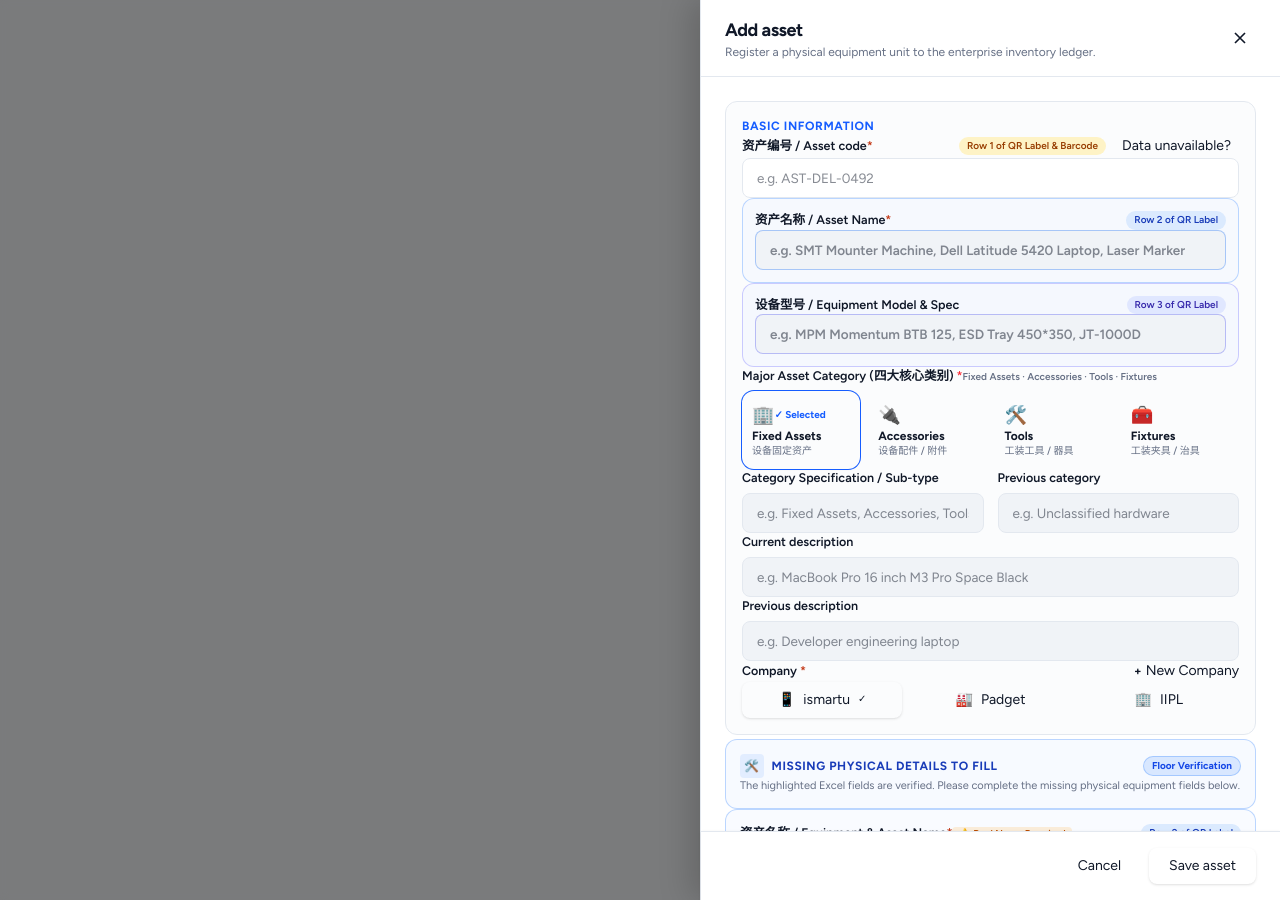
Scenario: Four Major Asset Categories Specification › 4. AddAssetPanel displays the 4 major category buttons and updates selection
Check: the button "🏢 ✓ Selected Fixed Assets 设备固定资产" is shown, box [742,391,860,469]
Check: the button "🔌 Accessories 设备配件 / 附件" is shown, box [868,391,987,469]
# Click 'Tools'
Click the button "🛠️ Tools 工装工具 / 器具" at {"x": 1054, "y": 430}, box [994,391,1113,469]
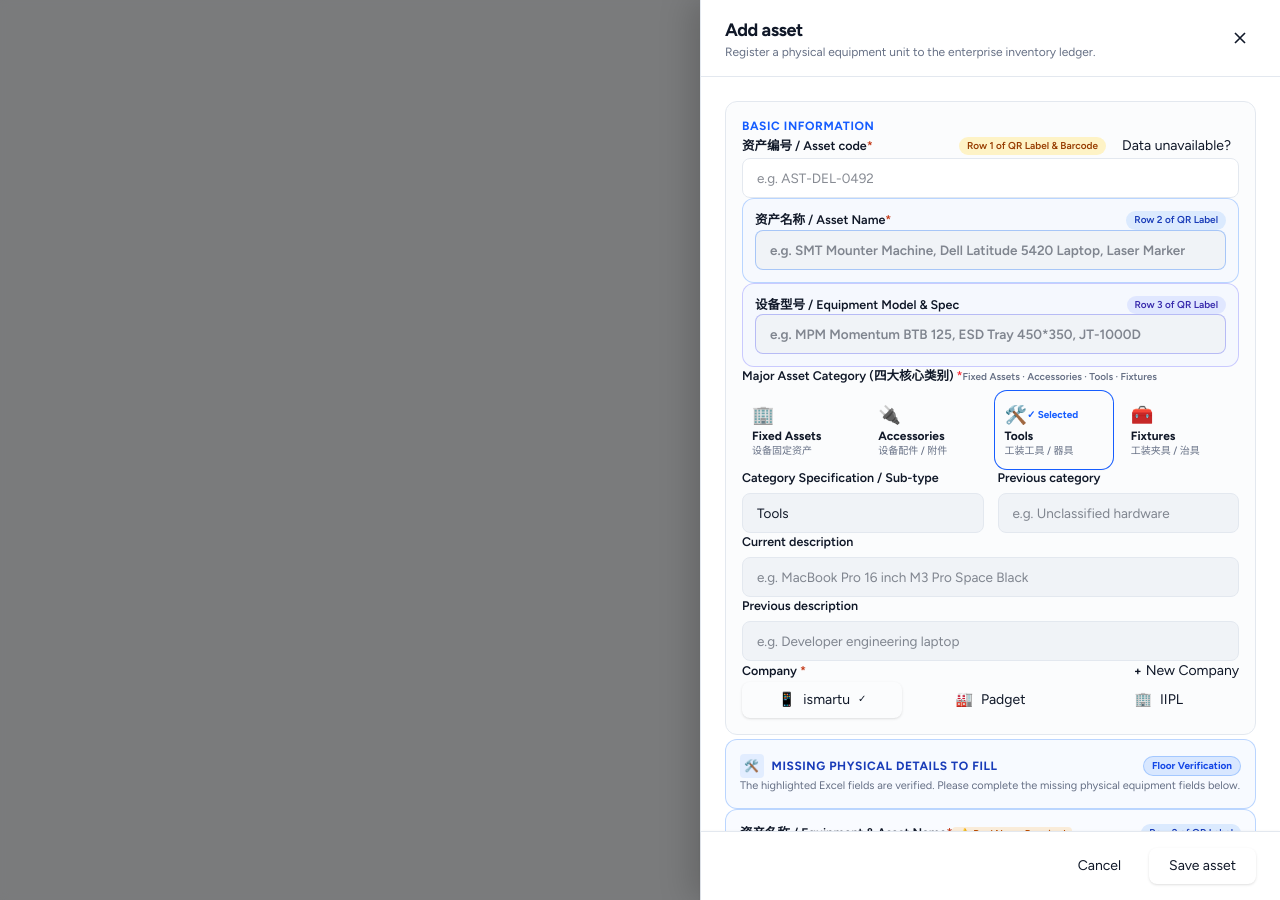
Check: the field with placeholder "e.g. Fixed Assets, Accessories, Tools, Fixtures" holds "Tools", box [742,493,984,533]
# Click 'Fixtures'
Click the button "🧰 Fixtures 工装夹具 / 治具" at {"x": 1180, "y": 430}, box [1121,391,1239,469]
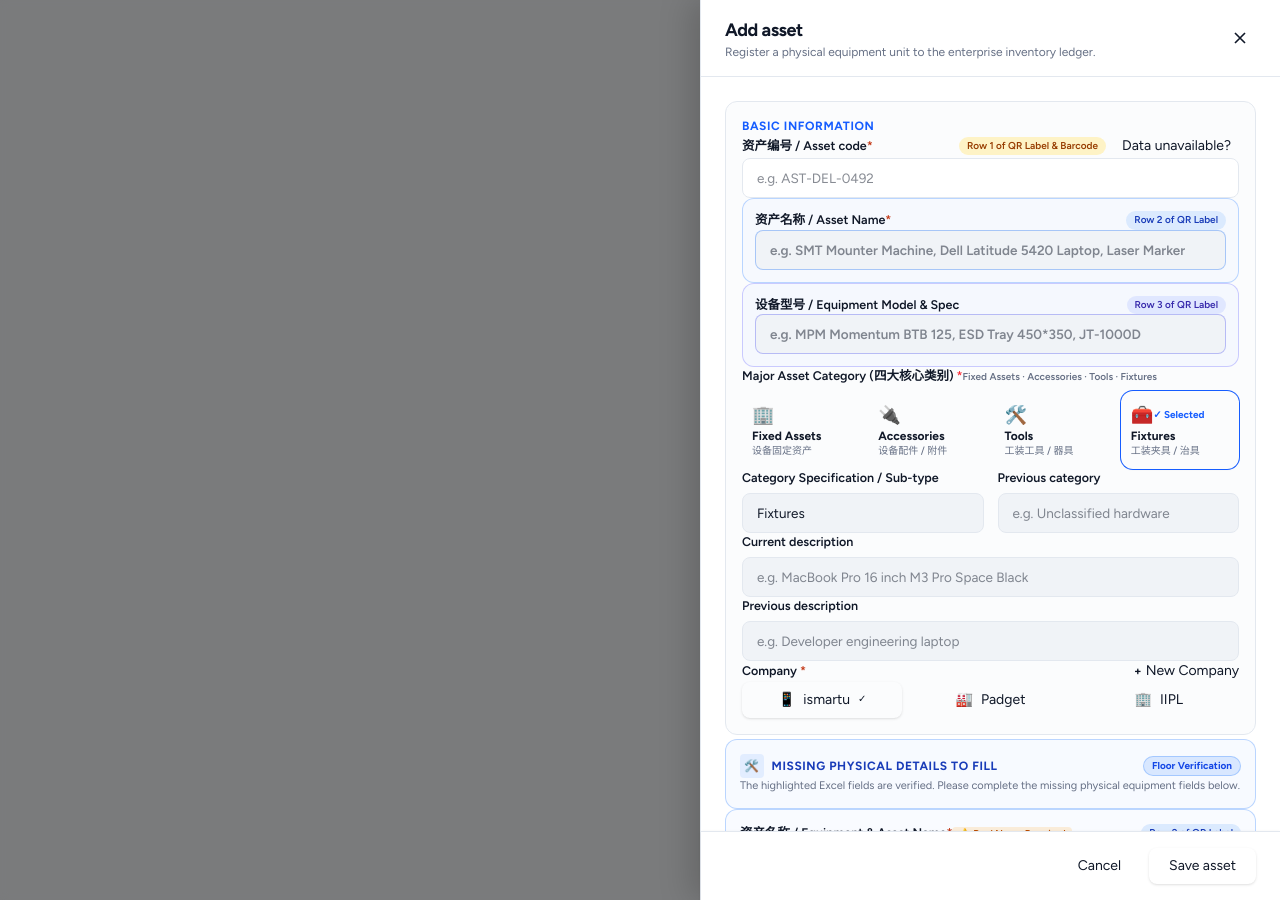
Check: the field with placeholder "e.g. Fixed Assets, Accessories, Tools, Fixtures" holds "Fixtures", box [742,493,984,533]
